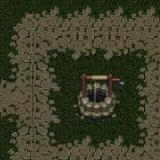Hide: (60, 59, 136, 137)
